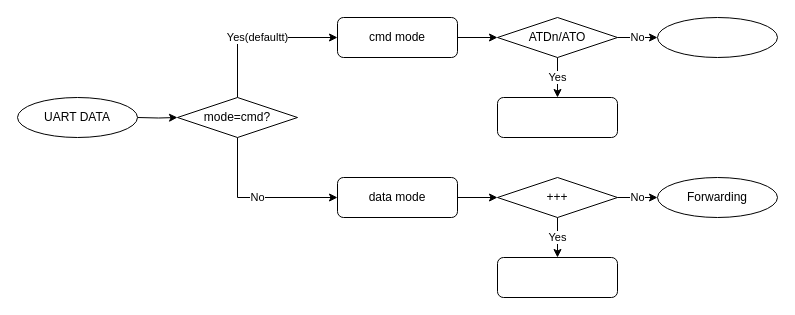
The diagram is 795 pixels wide and 315 high, and some of its shapes have lost their labels. Here are the shapes that lost their labels. From the top down, the centre of each, then its label:
the point at 717,37: EXE
the point at 557,117: switch to data mode
the point at 557,277: switch to cmd mode
